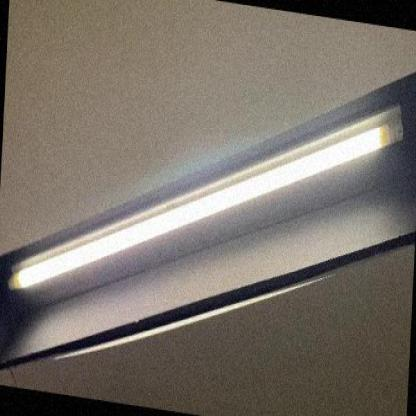light_on: (2, 37, 414, 356)
